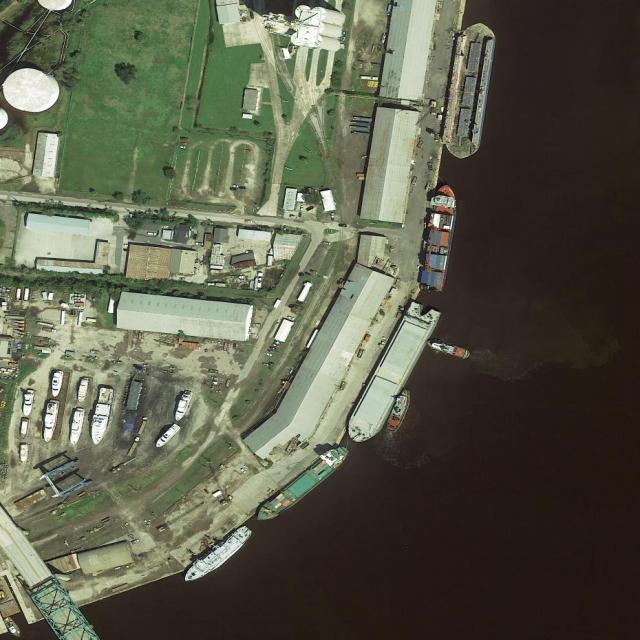Cargo: (341, 299, 442, 449), (254, 442, 350, 527)
Container Ship: (412, 180, 463, 293)
Other Ship: (180, 520, 255, 589), (382, 386, 416, 436), (425, 336, 471, 362)
